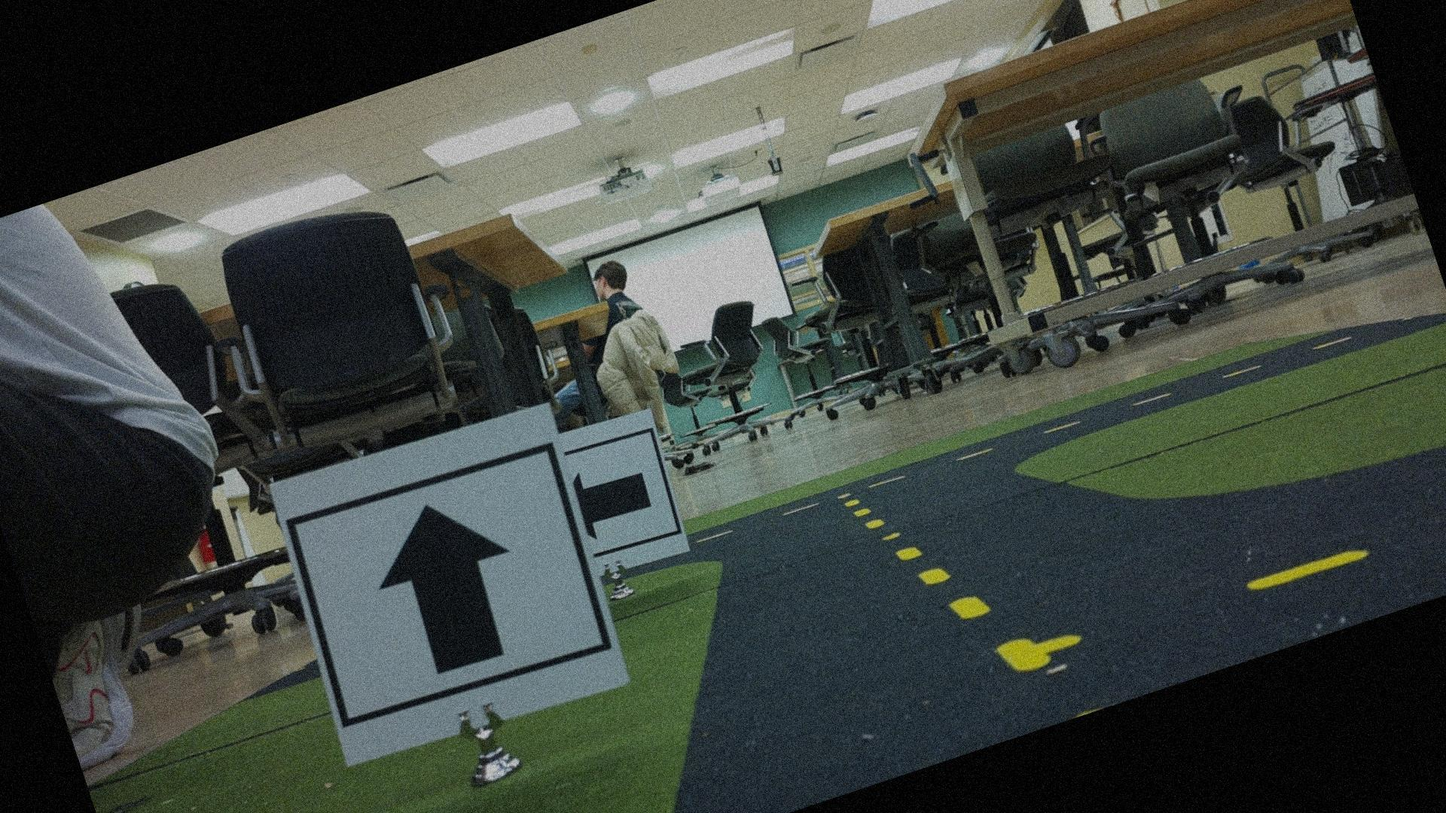gostraight: (273, 400, 636, 775)
yellowline: (842, 449, 1047, 711)
